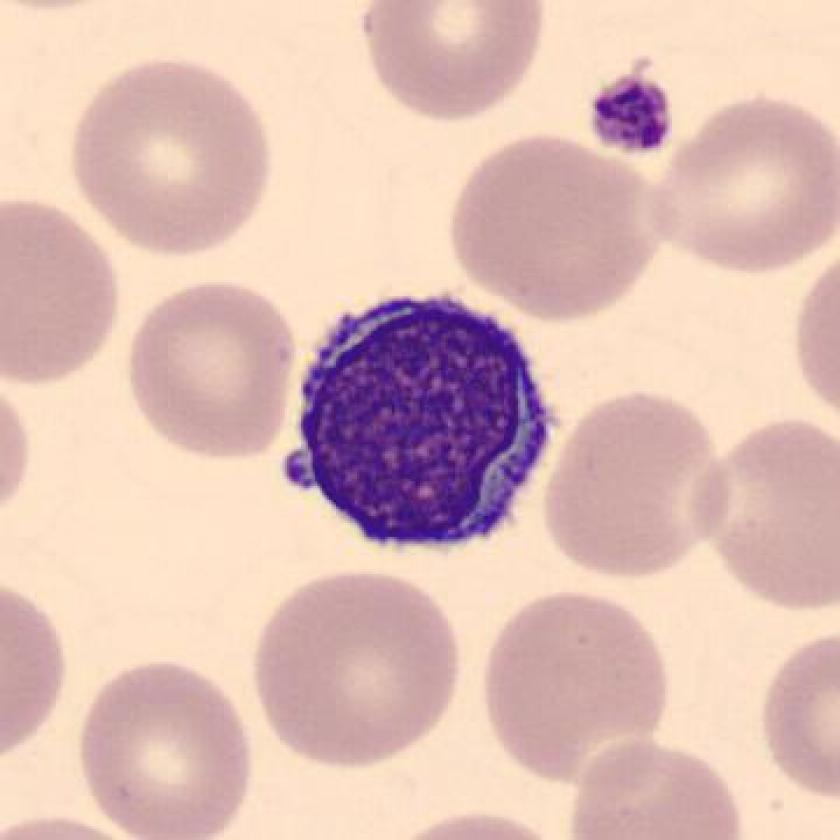lymphocyte: (267, 274, 568, 573)
